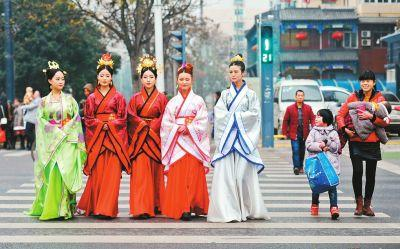no_mask: (43, 61, 67, 93), (94, 53, 115, 88), (137, 54, 158, 89), (175, 63, 195, 93), (226, 56, 246, 84), (357, 71, 376, 93), (314, 109, 331, 129), (292, 89, 306, 105)
